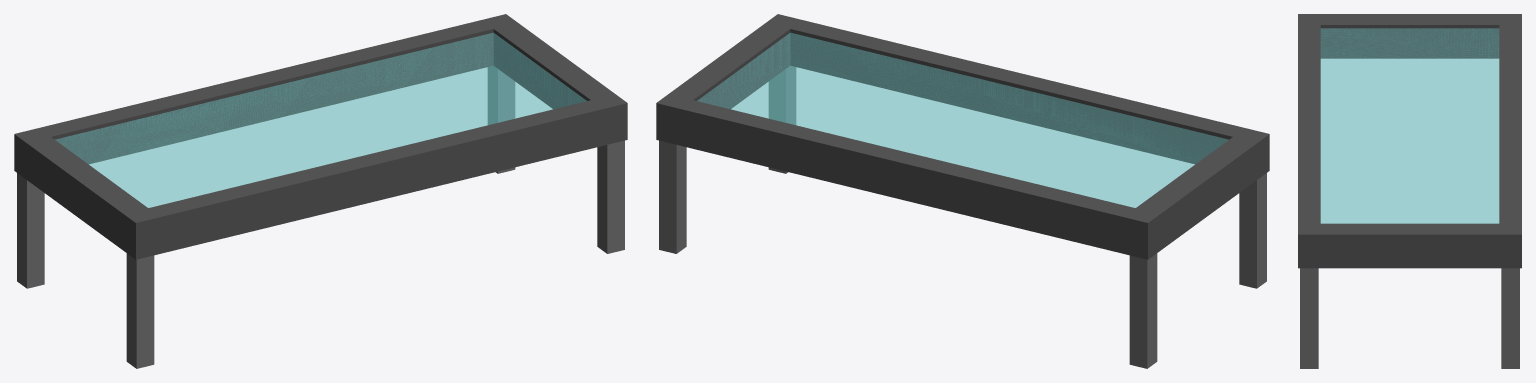
The model's file is Coffee Table.fbx.
3 views of the same model, side by side, from view 1: azimuth 30°, elevation 25°; view 2: azimuth 150°, elevation 25°; view 3: azimuth 270°, elevation 25° (orthographic). The views are drawn at different scales.
Visible parts, largest first — view 1: Coffee Table; view 2: Coffee Table; view 3: Coffee Table.
Part boxes in pixels (box(x1,y1,x2,y2)): Coffee Table: box(14, 14, 627, 368); Coffee Table: box(656, 14, 1269, 368); Coffee Table: box(1298, 14, 1521, 368).
Bounding box in the file's own units: 14 × 4 × 6.
